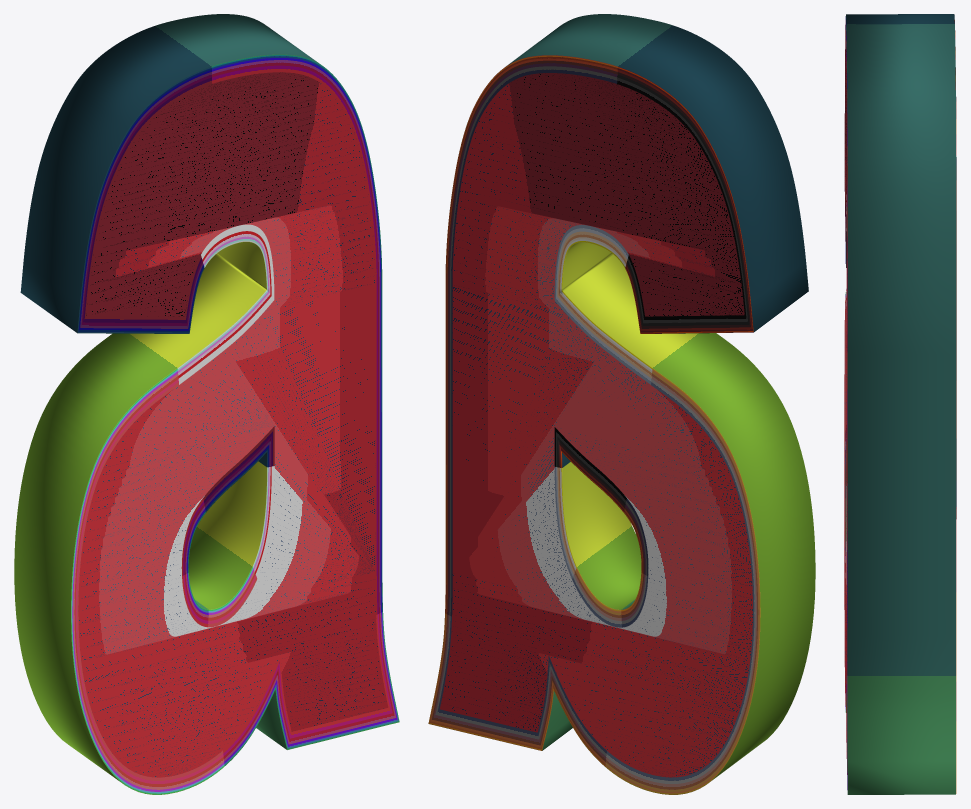
The picture shows the model from 3 angles, left to right: view 1: azimuth 30°, elevation 25°; view 2: azimuth 150°, elevation 25°; view 3: azimuth 270°, elevation 25°; orthographic projection. The views are drawn at different scales.
Visible parts, largest first — view 1: Text; view 2: Text; view 3: Text.
Boxes of the visible parts, left/top/right/bottom form: Text: left=14, top=14, right=399, bottom=794; Text: left=428, top=14, right=815, bottom=794; Text: left=844, top=14, right=956, bottom=794.
Bounding box in the file's own units: 0.1053 × 0.2182 × 0.0319.
1 material, 1 textured.
